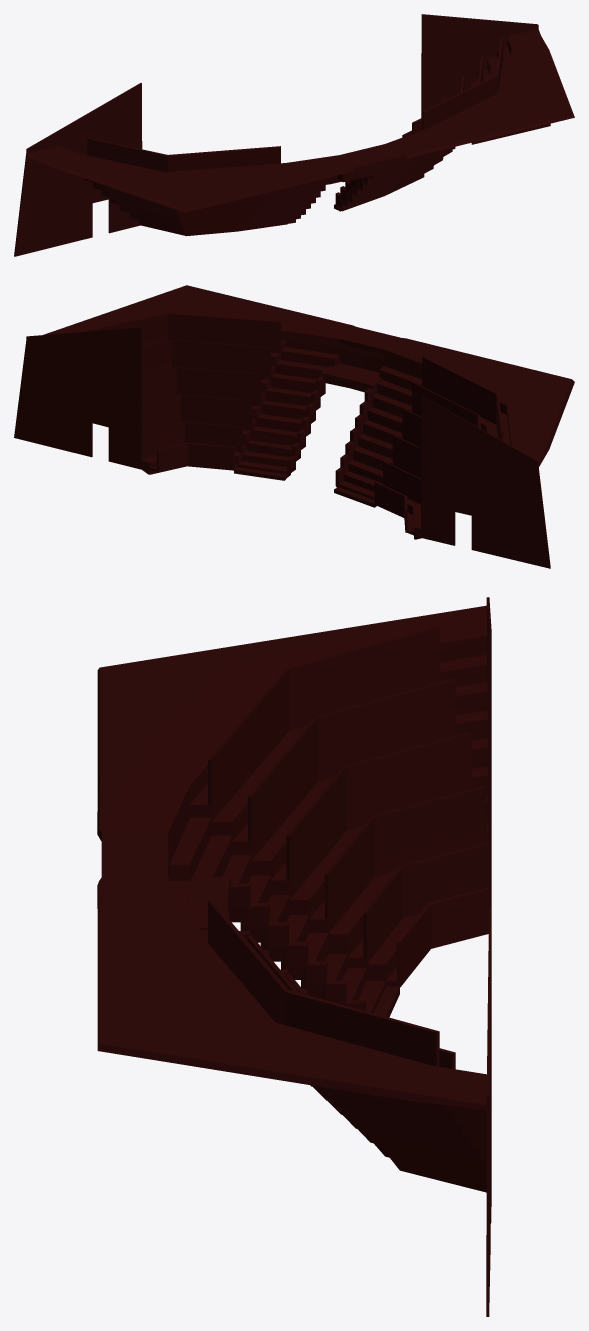
Rendered from portaat.fbx.
3 renders of one model, top to bottom at view 1: azimuth 30°, elevation 25°; view 2: azimuth 150°, elevation 25°; view 3: azimuth 270°, elevation 25°, orthographic. The views are drawn at different scales.
Parts seen in each view (by area): view 1: portaat; view 2: portaat; view 3: portaat.
Boxes of the visible parts, bbox=[...] form: portaat: bbox=[14, 14, 574, 256]; portaat: bbox=[14, 285, 574, 568]; portaat: bbox=[97, 597, 491, 1316].
Size of the model in its own units: 57.57 by 14.97 by 18.35.
